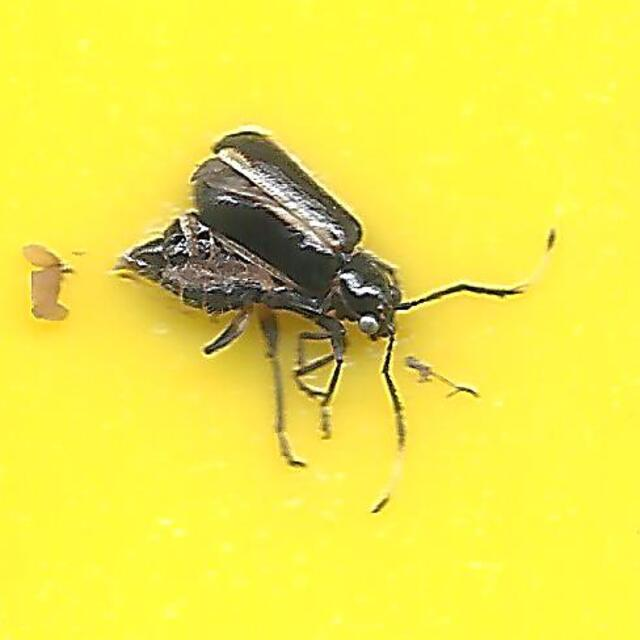Coleoptera: (131, 135, 509, 505)
